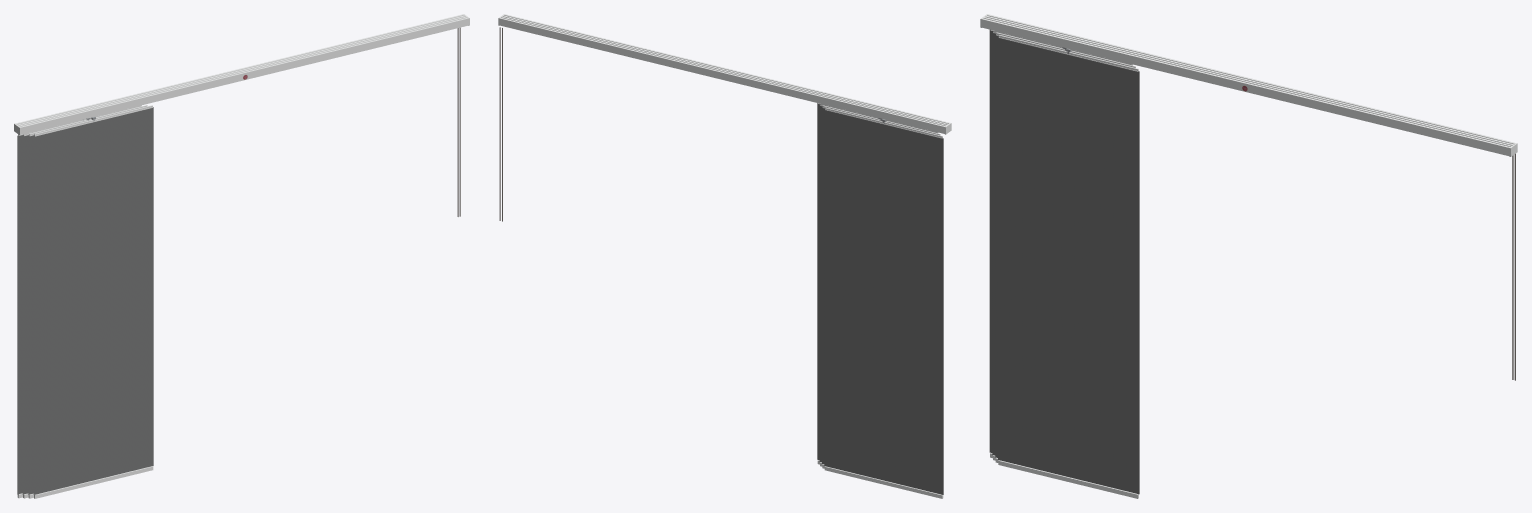
File: before-panel-white-black-collected.glb
The picture shows the model from 3 angles, left to right: view 1: azimuth 30°, elevation 25°; view 2: azimuth 150°, elevation 25°; view 3: azimuth 330°, elevation 25°; orthographic projection. The views are drawn at different scales.
Visible parts, largest first — view 1: PANEL_TELO_4, PANEL_RAIL_PROFILE_WAY_4, PANEL_TELO_2, PANEL_TELO_1, PANEL_TELO_3, PANEL_RAIL_PROFILE_WAY_1, PANEL_RAIL_PROFILE_WAY_2, PANEL_RAIL_PROFILE_WAY_3, PANEL_BOTTOM_WEIGHT_4; view 2: PANEL_TELO_1, PANEL_RAIL_PROFILE_WAY_1, PANEL_TELO_3, PANEL_TELO_4, PANEL_TELO_2, PANEL_RAIL_PROFILE_WAY_4, PANEL_RAIL_PROFILE_WAY_3, PANEL_RAIL_PROFILE_WAY_2, PANEL_BOTTOM_WEIGHT_1; view 3: PANEL_TELO_4, PANEL_RAIL_PROFILE_WAY_4, PANEL_TELO_1, PANEL_TELO_2, PANEL_RAIL_PROFILE_WAY_1, PANEL_RAIL_PROFILE_WAY_2, PANEL_RAIL_PROFILE_WAY_3, PANEL_TELO_3, PANEL_BOTTOM_WEIGHT_4.
Part boxes in pixels (x1,y1,x2,y2): PANEL_TELO_4: (33,107,153,494); PANEL_RAIL_PROFILE_WAY_4: (20,17,468,134); PANEL_TELO_2: (22,135,28,494); PANEL_TELO_1: (17,135,23,494); PANEL_TELO_3: (28,135,34,494); PANEL_RAIL_PROFILE_WAY_1: (15,14,463,124); PANEL_RAIL_PROFILE_WAY_2: (17,15,465,125); PANEL_RAIL_PROFILE_WAY_3: (19,16,466,126); PANEL_BOTTOM_WEIGHT_4: (34,466,153,498); PANEL_TELO_1: (824,109,943,494); PANEL_RAIL_PROFILE_WAY_1: (499,17,945,133); PANEL_TELO_3: (819,105,822,462); PANEL_TELO_4: (817,103,820,460); PANEL_TELO_2: (822,107,824,464); PANEL_RAIL_PROFILE_WAY_4: (504,14,949,123); PANEL_RAIL_PROFILE_WAY_3: (502,15,948,124); PANEL_RAIL_PROFILE_WAY_2: (501,16,946,125); PANEL_BOTTOM_WEIGHT_1: (824,466,943,498); PANEL_TELO_4: (998,37,1139,494); PANEL_RAIL_PROFILE_WAY_4: (982,18,1510,155); PANEL_TELO_1: (989,29,993,452); PANEL_TELO_2: (992,32,995,455); PANEL_RAIL_PROFILE_WAY_1: (987,14,1515,144); PANEL_RAIL_PROFILE_WAY_2: (985,16,1513,145); PANEL_RAIL_PROFILE_WAY_3: (983,17,1511,146); PANEL_TELO_3: (995,34,998,457); PANEL_BOTTOM_WEIGHT_4: (998,460,1138,498).
Bounding box in the file's own units: 3.02 × 2.4 × 0.088.
Materials: 5 (2 with a texture image).
